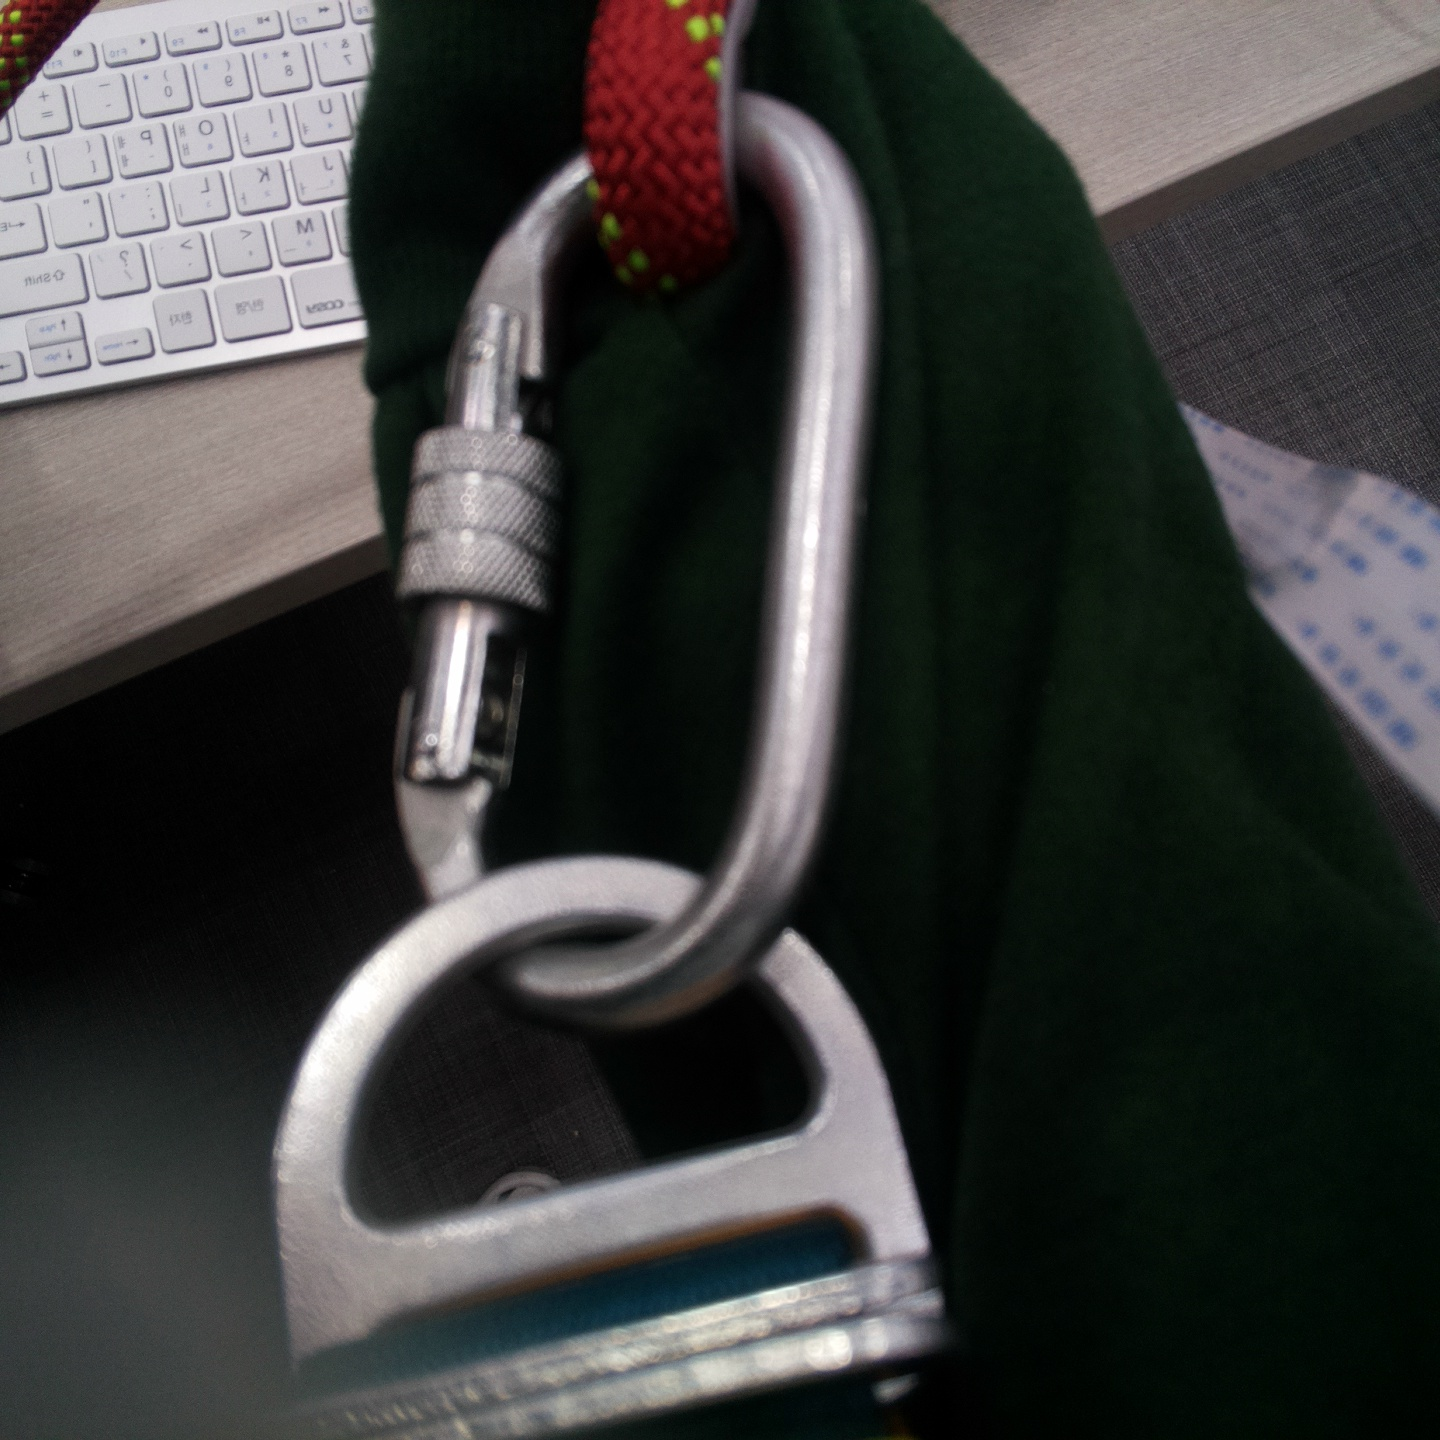SUCCESS: (392, 444, 866, 843)
